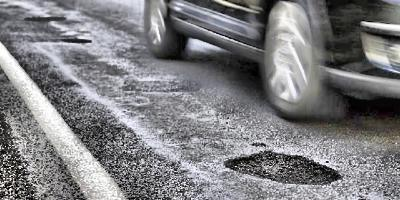pothole: (223, 151, 343, 187), (23, 15, 67, 22), (61, 37, 94, 45)
